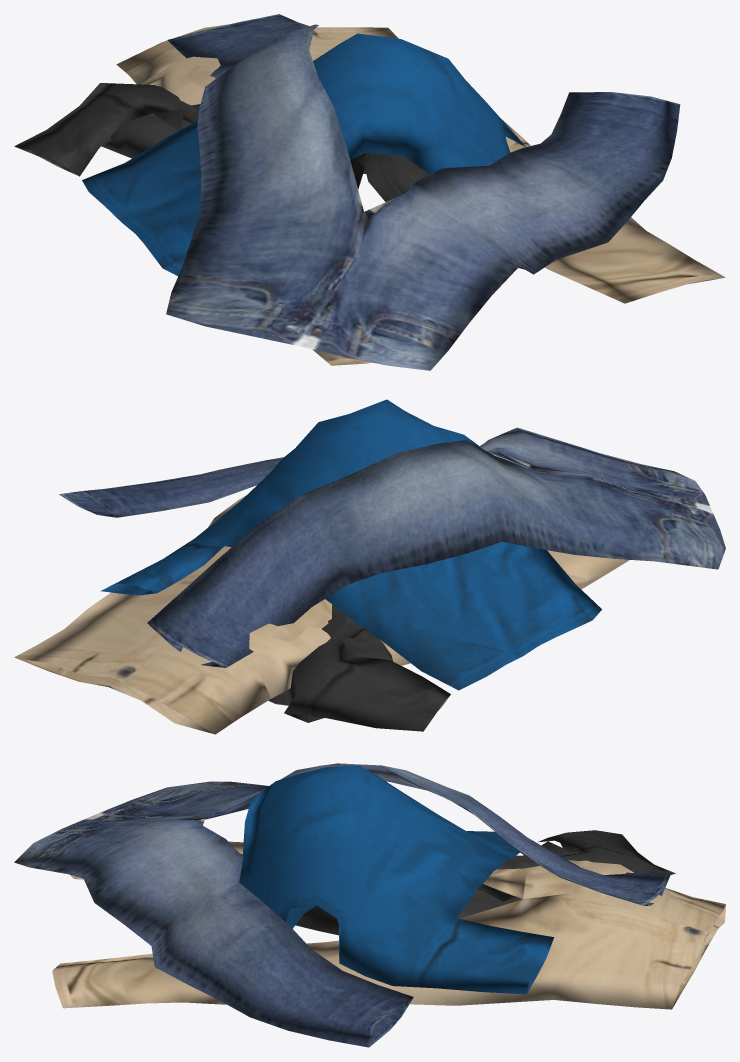
File: clothesPilledUp.fbx
3 views of the same model, one above another, from view 1: azimuth 30°, elevation 25°; view 2: azimuth 150°, elevation 25°; view 3: azimuth 270°, elevation 25° (orthographic). The views are drawn at different scales.
Visible parts, largest first — view 1: clothesPilledUp; view 2: clothesPilledUp; view 3: clothesPilledUp.
Part boxes in pixels (box(x1,y1,x2,y2)): clothesPilledUp: box(14, 14, 725, 370); clothesPilledUp: box(14, 399, 725, 734); clothesPilledUp: box(14, 763, 725, 1047).
Bounding box in the file's own units: 2.09 × 0.5711 × 2.39.
1 material, 1 textured.
